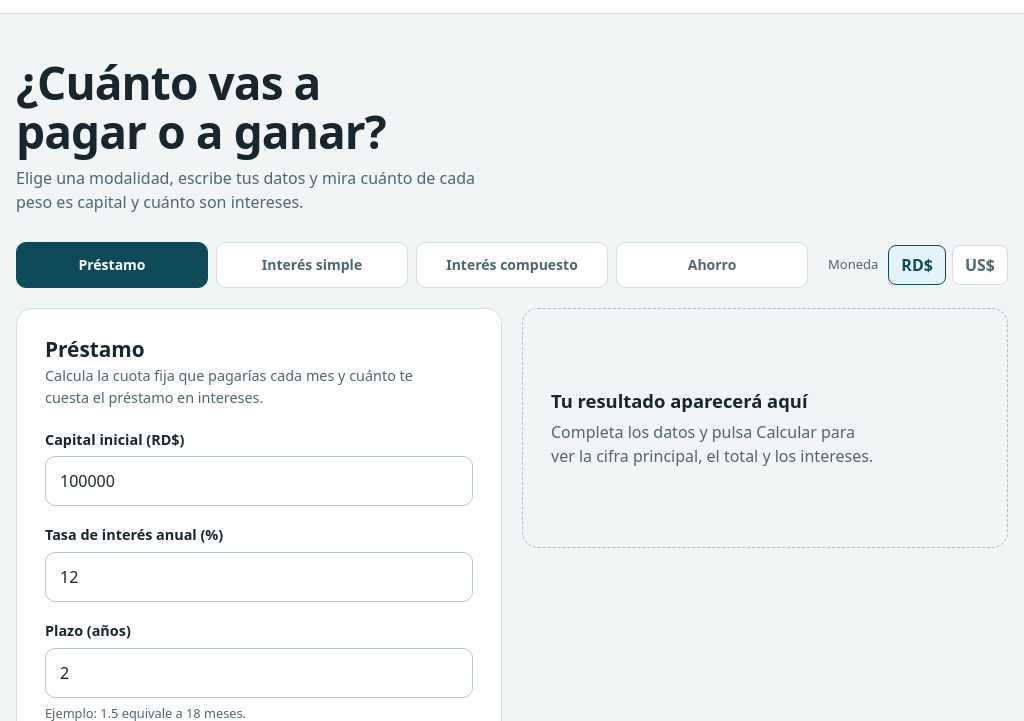
it: FinanCalc › caso de la guía: Limpiar restablece los campos
Replace the text in the number field labelled "Capital inicial" with "5000" at [259, 481], box x1=45 y1=456 x2=473 y2=506
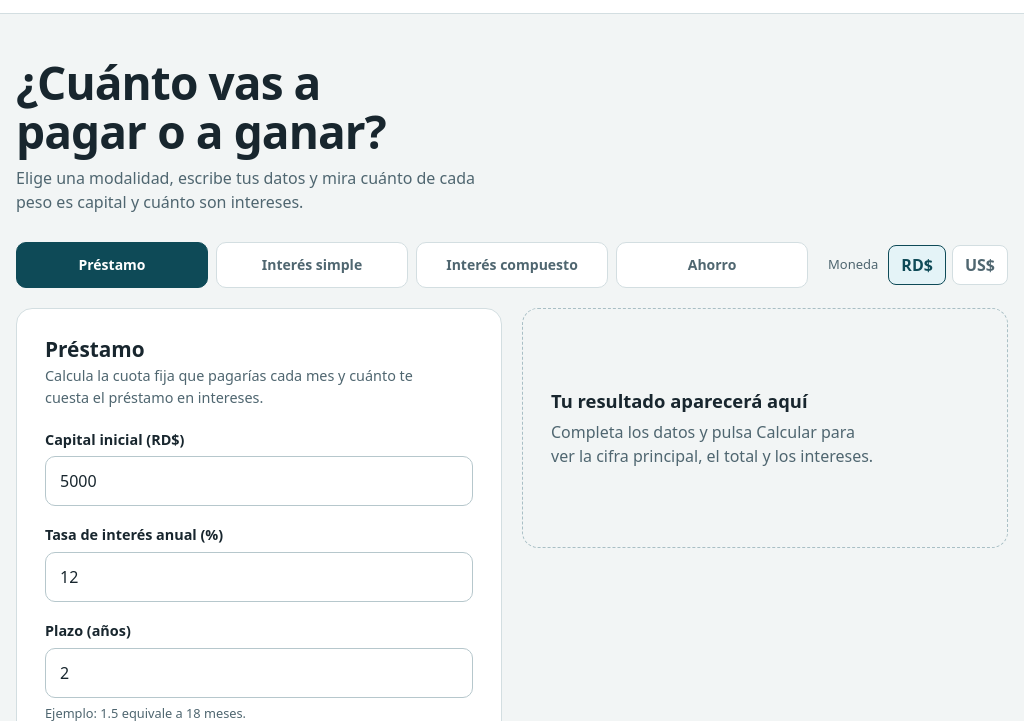
Replace the text in the number field labelled "Tasa de interés" with "3" at [259, 577], box x1=45 y1=552 x2=473 y2=602
(page scrolled)
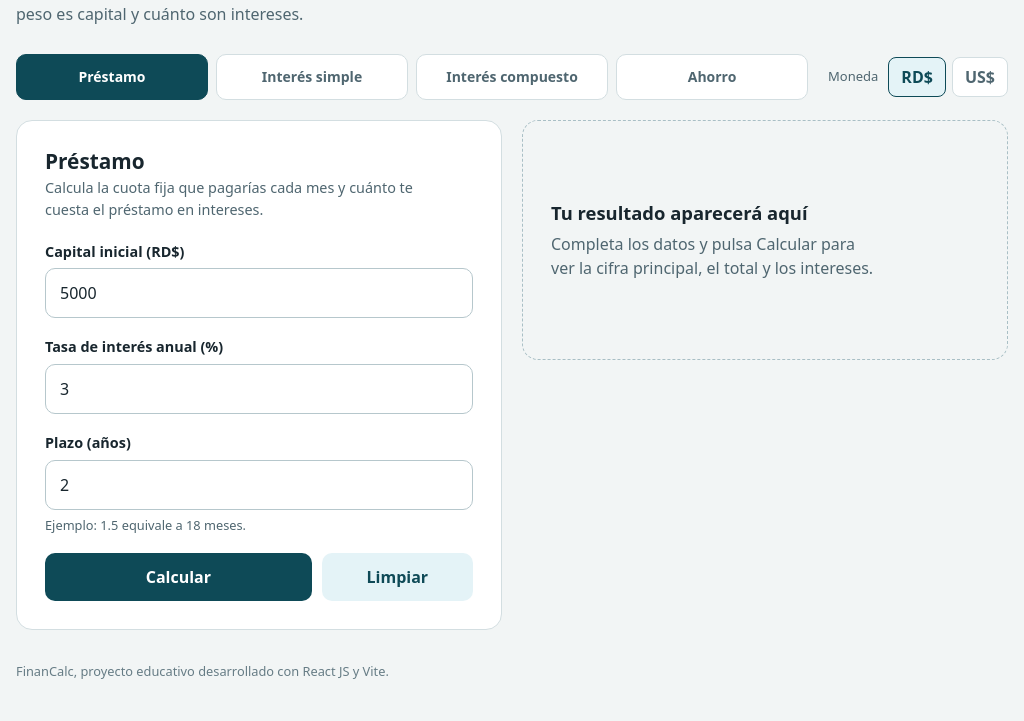
Click the button "Limpiar" at [397, 577], box x1=322 y1=553 x2=473 y2=601
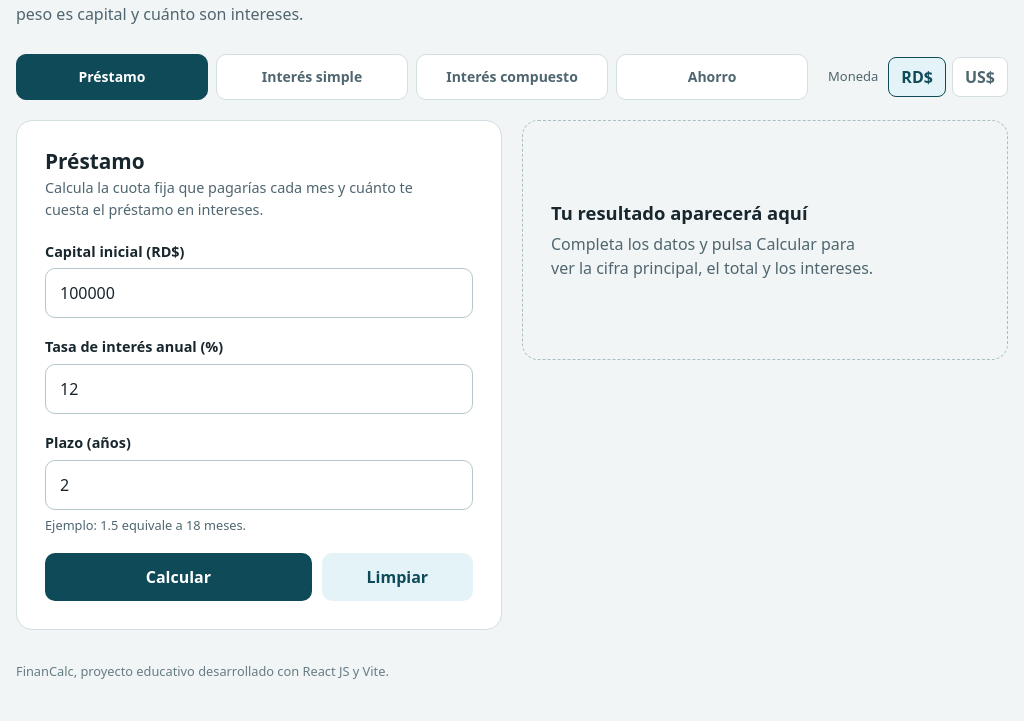
Now the number field labelled "Capital inicial" holds "100000", box x1=45 y1=268 x2=473 y2=318
Now the number field labelled "Tasa de interés" holds "12", box x1=45 y1=364 x2=473 y2=414
